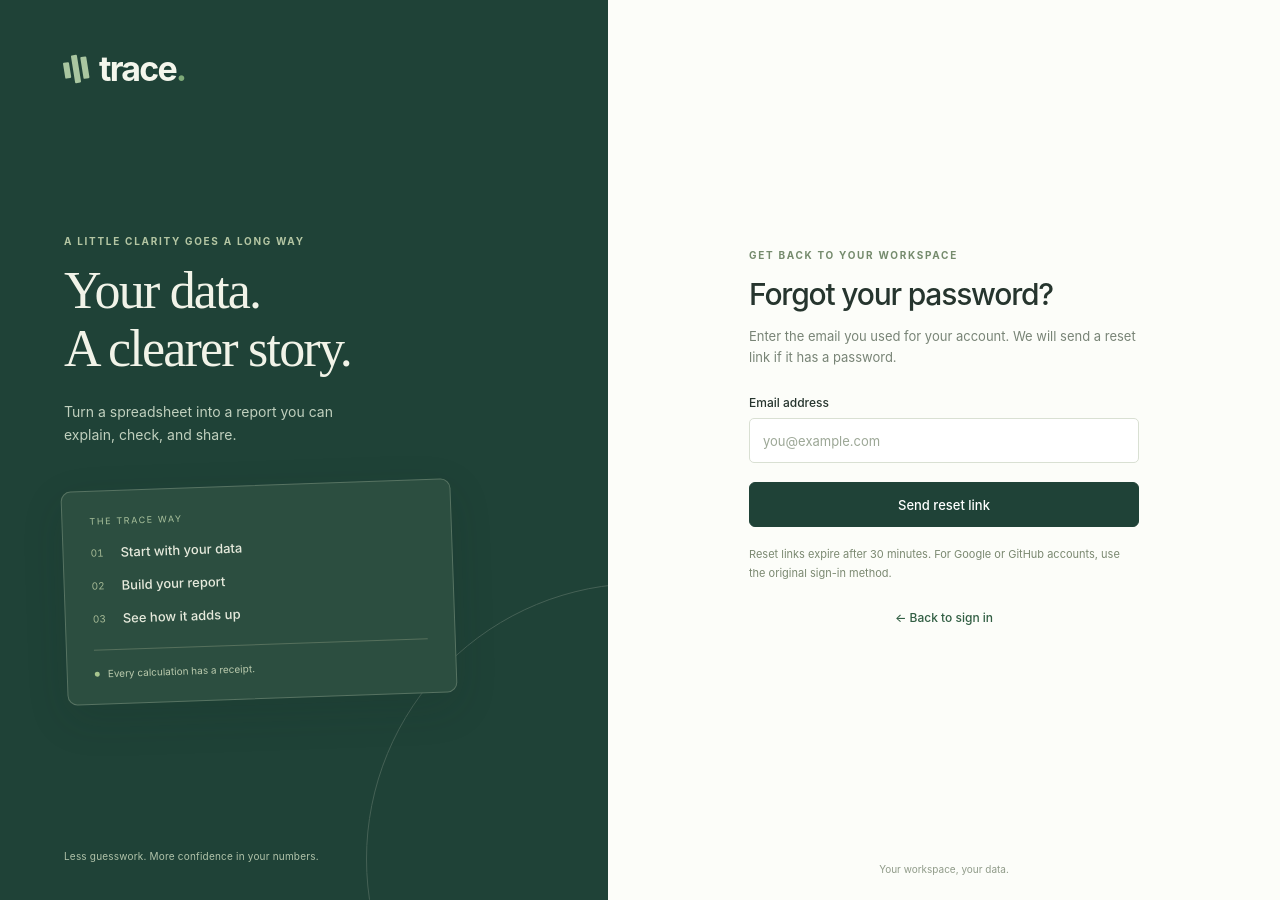
Test: registration and recovery › shows generic password recovery copy from the API
Type "unknown@example.com" into the field labelled "Email address".
click(944, 441); type("unknown@example.com")  # box [749,418,1139,463]
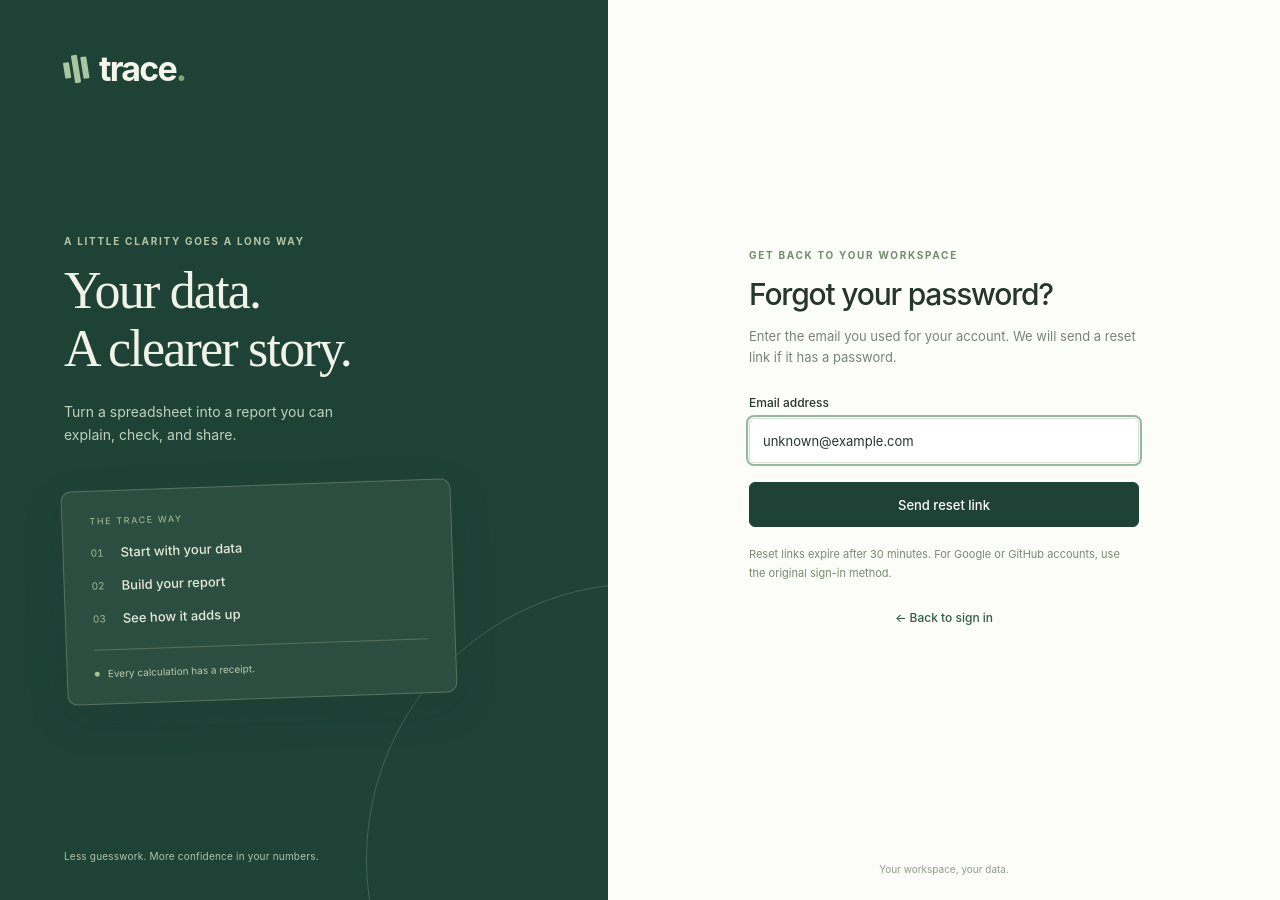
Click the button "Send reset link".
click(944, 505)  # box [749,482,1139,527]
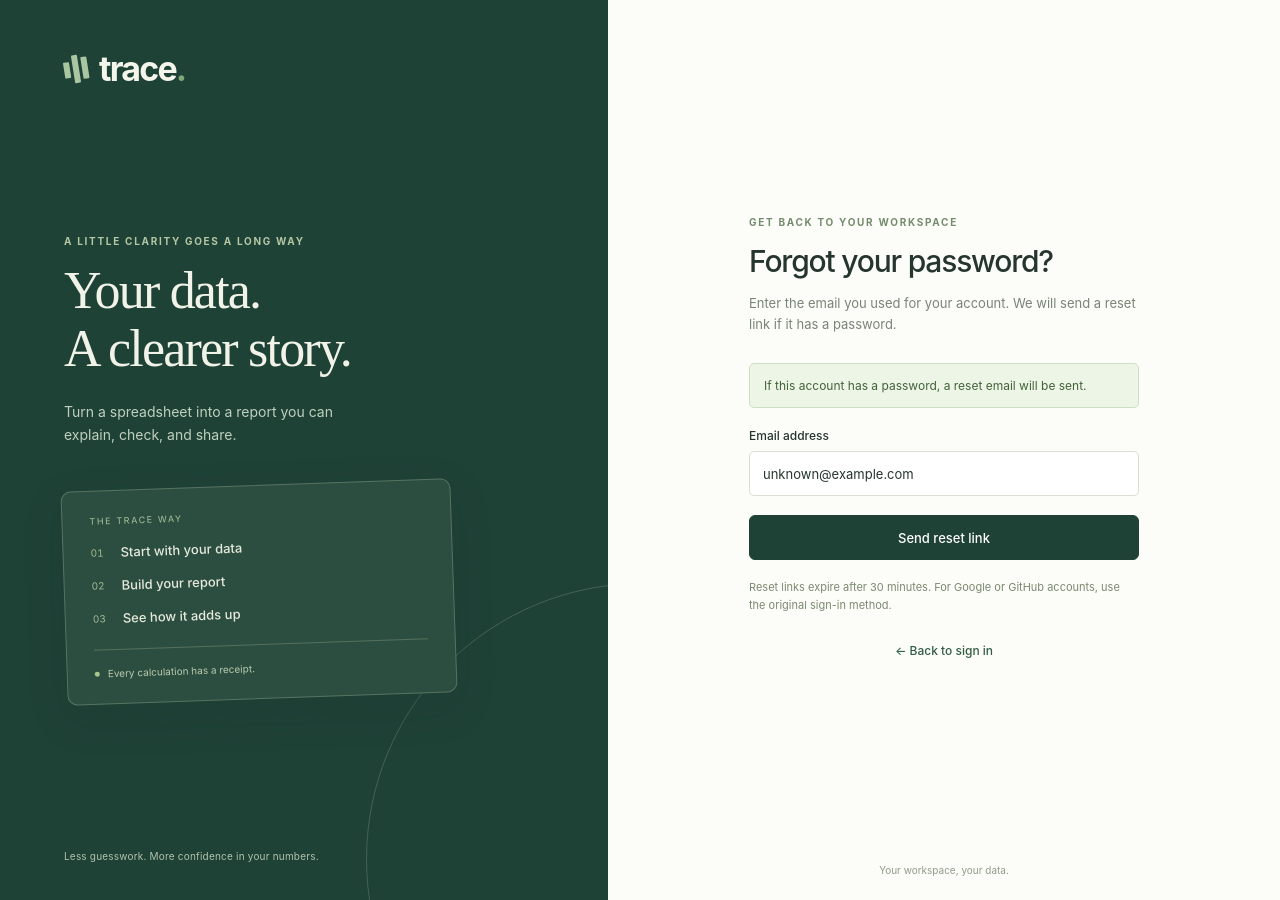
Result: the message shows "If this account has a password" at [764,378,1087,392]
